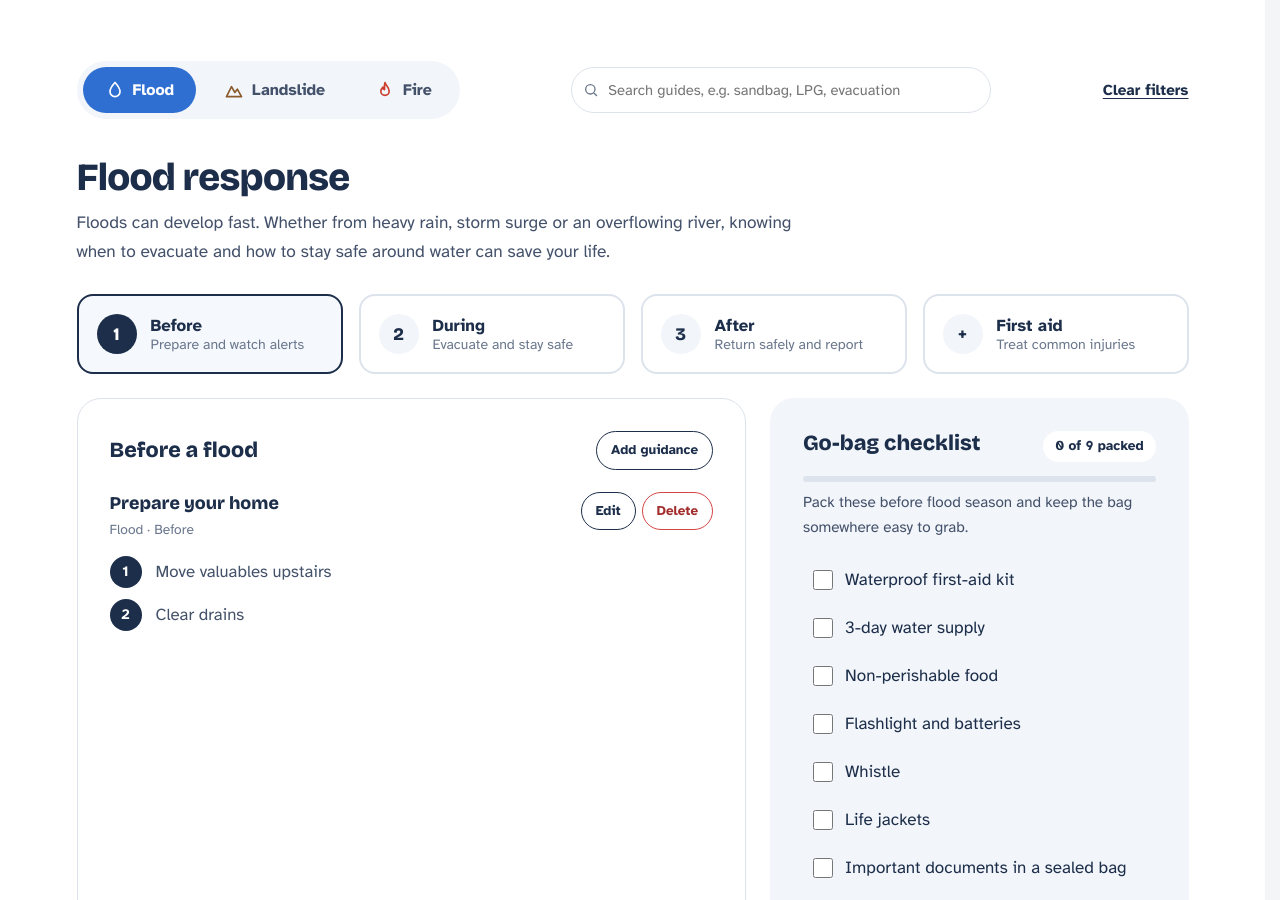
Test: Add guidance opens an empty form for the hazard and phase being viewed
(page scrolled)
Click the button "Add guidance".
click(654, 451)  # box left=596, top=432, right=713, bottom=470
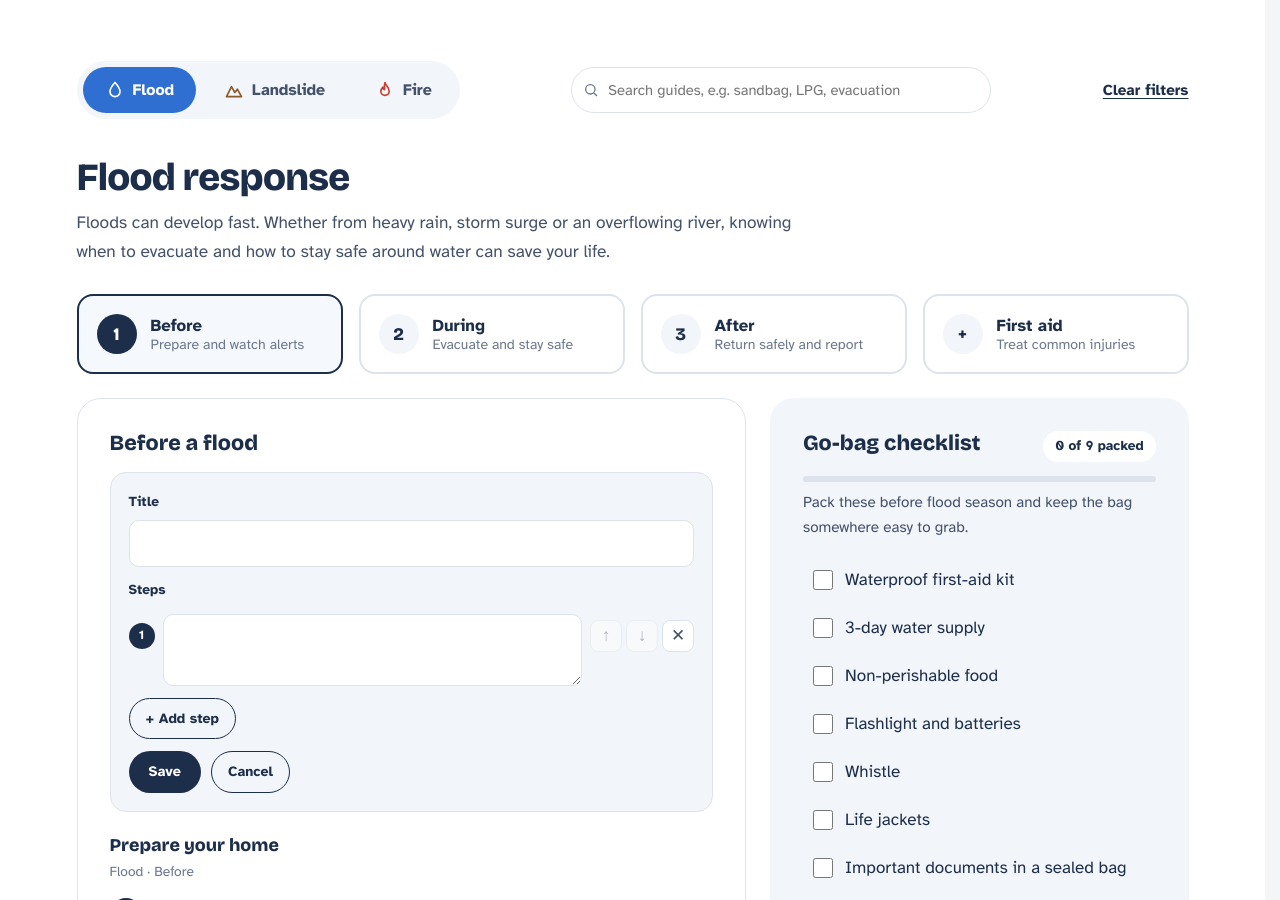
Check: the field labelled "Title" is empty, box left=128, top=520, right=694, bottom=567
